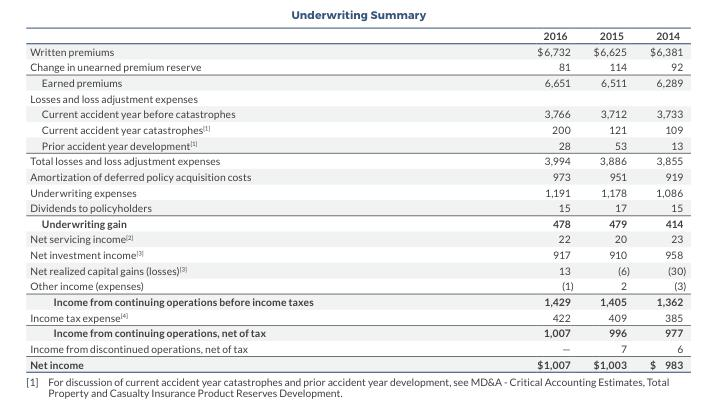table: (29, 28, 685, 369)
table column: (29, 28, 424, 369), (424, 28, 582, 369), (582, 28, 639, 369), (639, 28, 685, 369)
table column header: (29, 28, 685, 42)
table projected row header: (29, 89, 685, 105)
table row: (29, 42, 685, 58), (29, 58, 685, 74), (29, 89, 685, 105), (29, 105, 685, 121), (29, 136, 685, 152), (29, 152, 685, 168), (29, 183, 685, 199), (29, 199, 685, 215), (29, 230, 685, 246), (29, 261, 685, 277), (29, 277, 685, 293), (29, 308, 685, 324), (29, 324, 685, 340), (29, 74, 685, 89), (29, 121, 685, 136), (29, 168, 685, 183), (29, 215, 685, 230), (29, 246, 685, 261), (29, 293, 685, 308), (29, 340, 685, 355), (29, 28, 685, 42), (29, 355, 685, 369)
